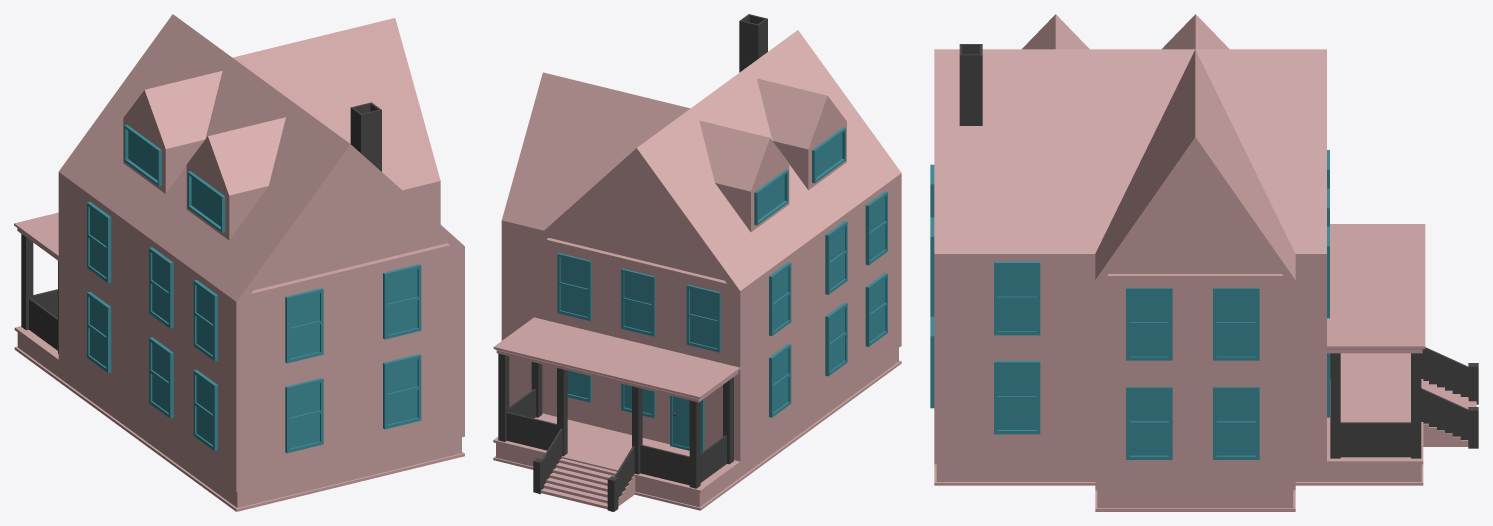
File: huis 1.FBX
3 views of the same model, side by side, from view 1: azimuth 30°, elevation 25°; view 2: azimuth 150°, elevation 25°; view 3: azimuth 270°, elevation 25° (orthographic). The views are drawn at different scales.
Parts seen in each view (by area): view 1: huis, huisdeel, kapel, bovenraam, raam019, raam016, raam017, raam018, ondersteuning, raam013, raam011, raam012 (+5 smaller); view 2: huis, huisdeel, ondersteuning, kapel, luivel, trap, bovenraam, raam030, raam028, raam026, raam010, raam012 (+8 smaller); view 3: huis, huisdeel, luivel, ondersteuning, raam020, raam021, raam024, raam022, raam025, raam023, kapel, Box001 (+1 smaller).
Part boxes in pixels (box(x1,y1,x2,y2)): huis: box(14, 14, 464, 511); huisdeel: box(233, 18, 440, 223); kapel: box(123, 71, 285, 240); bovenraam: box(124, 124, 225, 232); raam019: box(383, 354, 421, 429); raam016: box(383, 264, 421, 339); raam017: box(285, 288, 323, 363); raam018: box(285, 378, 323, 453); ondersteuning: box(21, 234, 58, 353); raam013: box(149, 247, 173, 328); raam011: box(193, 369, 217, 450); raam012: box(149, 337, 173, 418); huis: box(493, 30, 901, 510); huisdeel: box(501, 72, 690, 406); ondersteuning: box(498, 353, 733, 511); kapel: box(699, 78, 846, 231); luivel: box(493, 317, 740, 402); trap: box(541, 458, 635, 509); bovenraam: box(754, 127, 845, 225); raam030: box(686, 284, 720, 352); raam028: box(621, 268, 655, 336); raam026: box(557, 253, 591, 320); raam010: box(865, 191, 887, 265); raam012: box(825, 302, 847, 376); huis: box(934, 49, 1423, 485); huisdeel: box(1095, 49, 1295, 511); luivel: box(1327, 224, 1425, 353); ondersteuning: box(1330, 347, 1478, 458); raam020: box(994, 261, 1040, 335); raam021: box(994, 360, 1040, 434); raam024: box(1213, 287, 1259, 360); raam022: box(1126, 287, 1172, 360); raam025: box(1213, 387, 1259, 459); raam023: box(1126, 387, 1172, 459); kapel: box(1022, 14, 1229, 49); Box001: box(959, 44, 982, 125).
Size of the model in its own units: 6.05 by 7.33 by 9.23.
